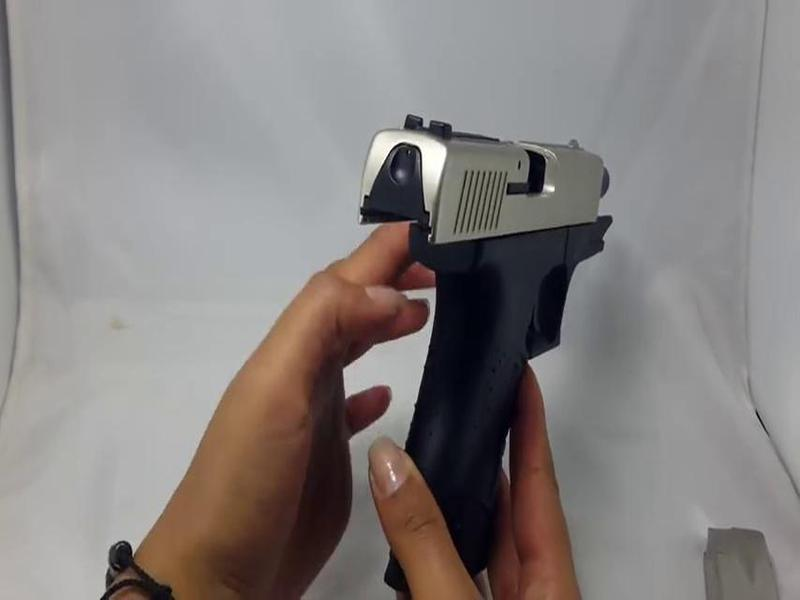Pistola: (314, 125, 649, 590)
